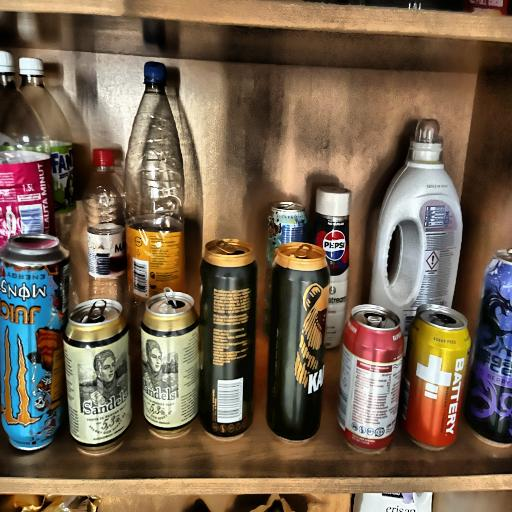karhu: (262, 240, 335, 437), (194, 234, 257, 441)
koff: (334, 293, 404, 456)
sandels: (64, 297, 136, 459), (131, 288, 199, 441)
